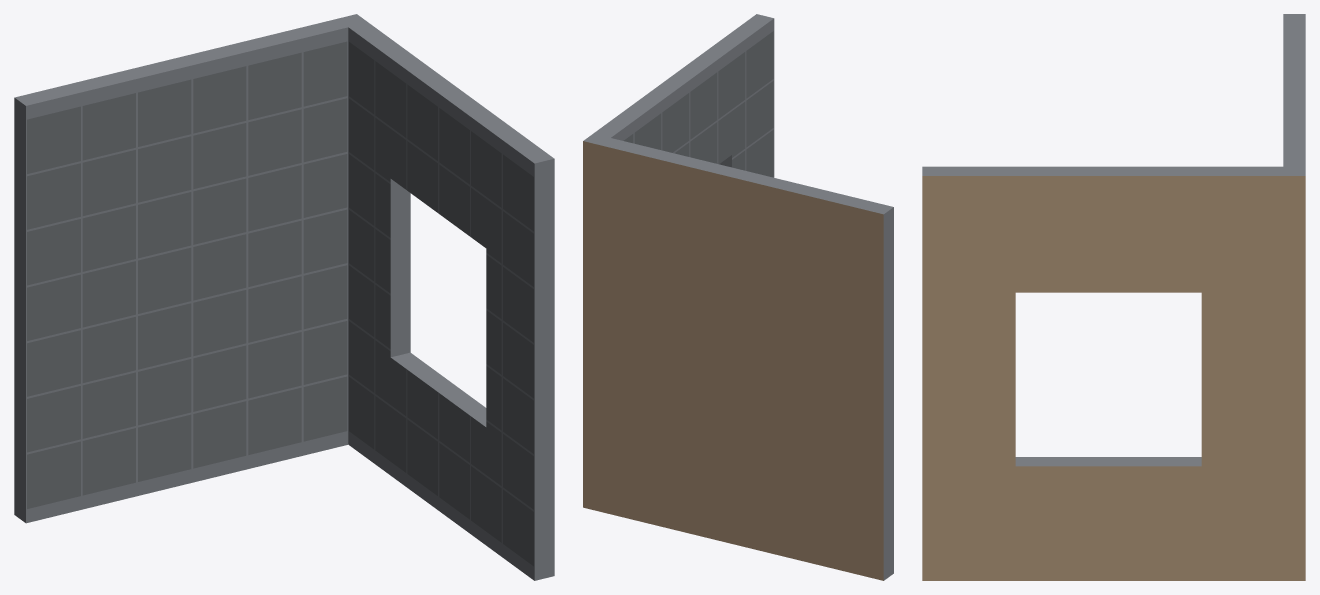
The model's file is Wall2_C7_11.fbx.
The picture shows the model from 3 angles, left to right: view 1: azimuth 30°, elevation 25°; view 2: azimuth 150°, elevation 25°; view 3: azimuth 270°, elevation 25°; orthographic projection. The views are drawn at different scales.
Visible parts, largest first — view 1: Wall2_C7_11; view 2: Wall2_C7_11; view 3: Wall2_C7_11.
Boxes of the visible parts, left/top/right/bottom form: Wall2_C7_11: left=14, top=14, right=554, bottom=580; Wall2_C7_11: left=583, top=14, right=893, bottom=580; Wall2_C7_11: left=922, top=14, right=1305, bottom=580.
Size of the model in its own units: 258 by 300 by 258.
